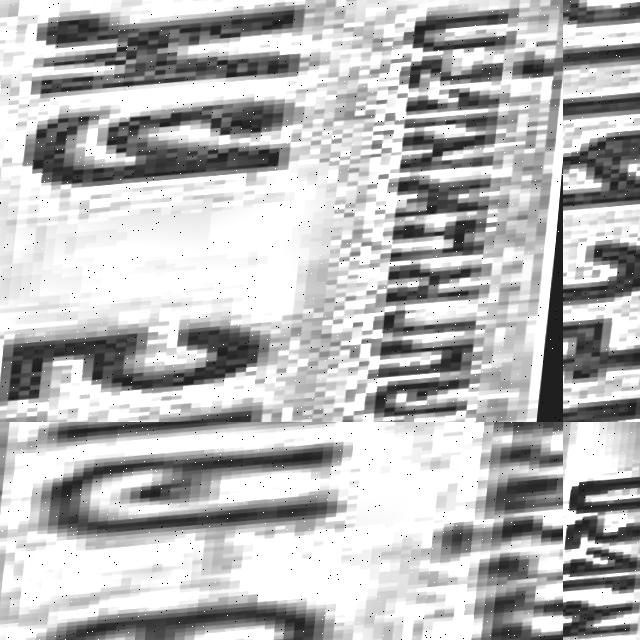license-plate: (0, 0, 563, 422), (0, 422, 563, 640), (563, 0, 640, 422), (563, 422, 640, 640)
